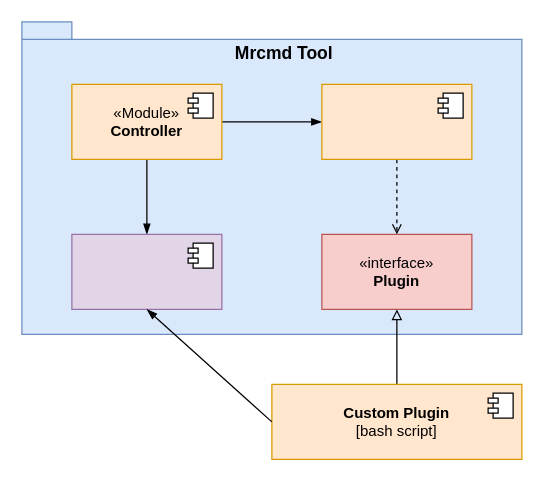
The diagram is 544 pixels wide and 481 high, and some of its shapes have lost their labels. The box of each missing label's shape, as (x1, y1, x2, y2) in pixels:
«Module» Core: (71, 233, 222, 309)
«Module» Plugin Manager: (321, 83, 472, 159)
